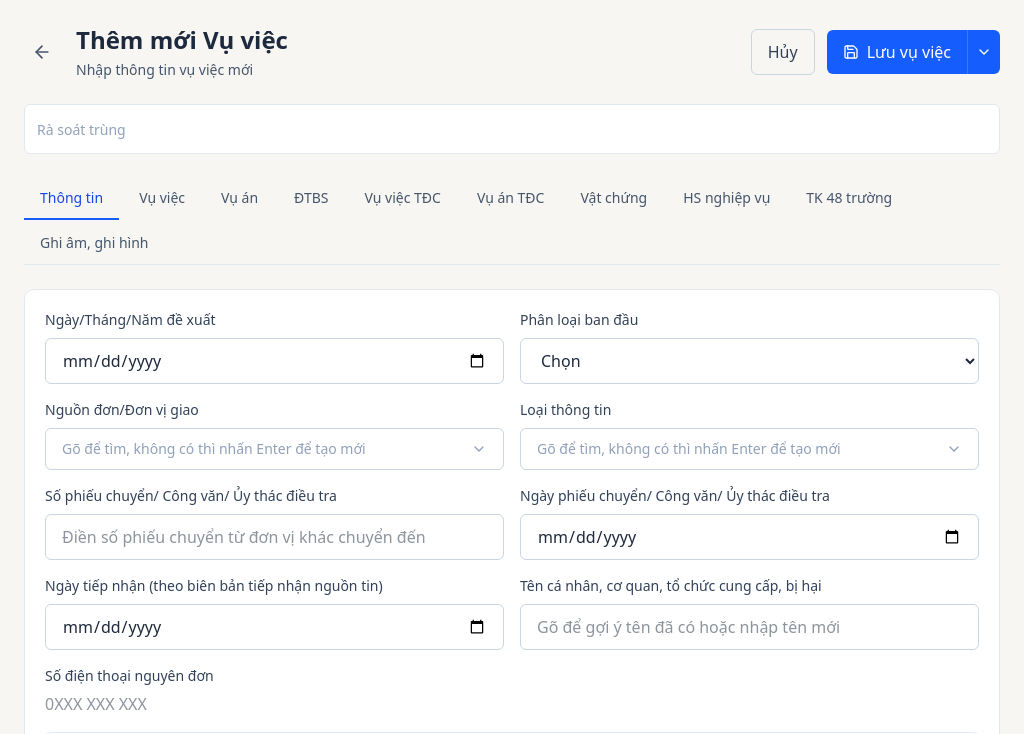
Incident form petition interaction parity › quick-creates the configurable information type and updates the reporter name
The image size is (1024, 734).
Type "Nguyễn Văn Báo Tin" into the dropdown with test id "field-benVu". click: (750, 627)
box: top-left (520, 604), bottom-right (979, 650)
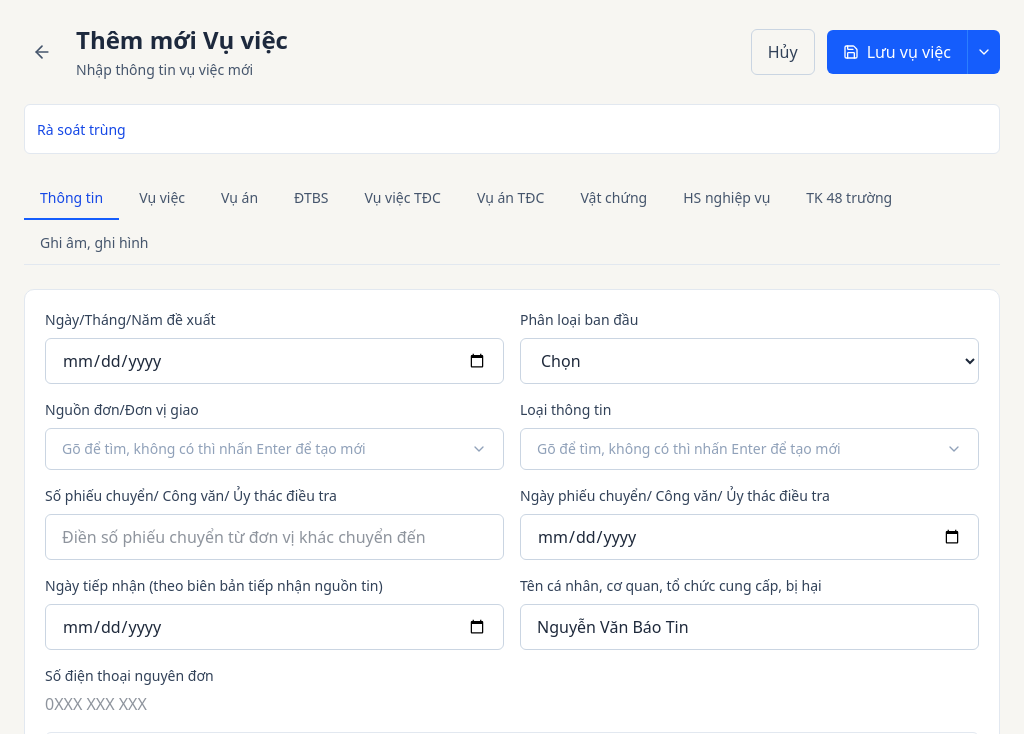
Click the dropdown with test id "field-loaiThongTin-trigger". click: click(750, 449)
box: top-left (520, 428), bottom-right (979, 470)
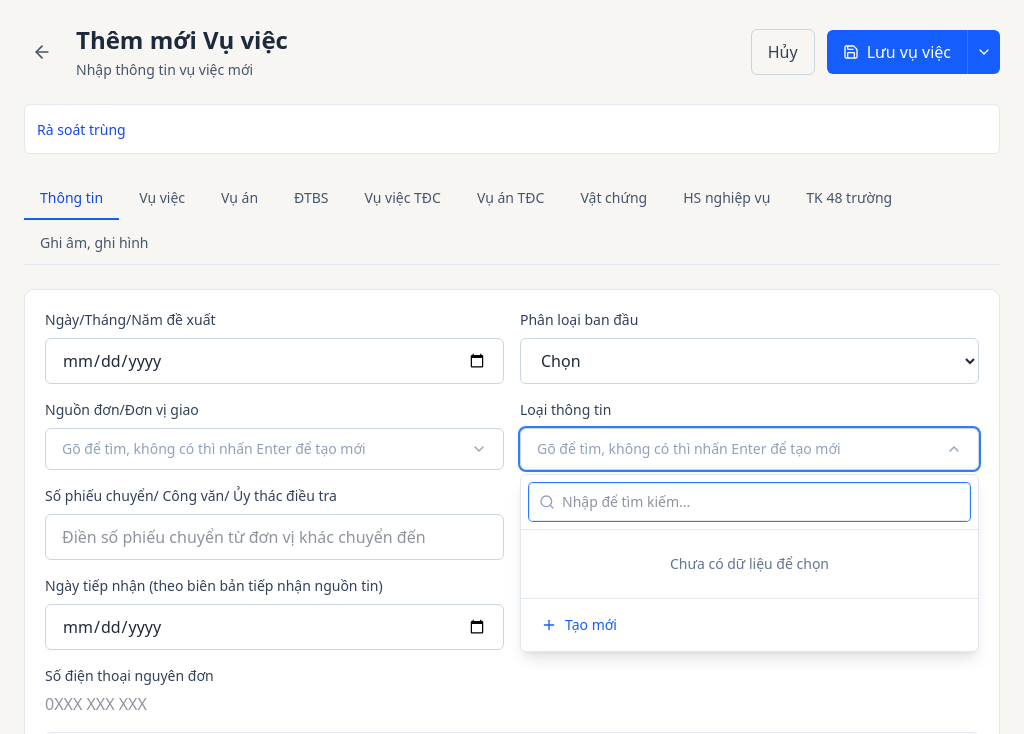
Type "Loại tin mới" into the field with test id "field-loaiThongTin-search". click: (750, 502)
box: top-left (529, 483), bottom-right (970, 521)
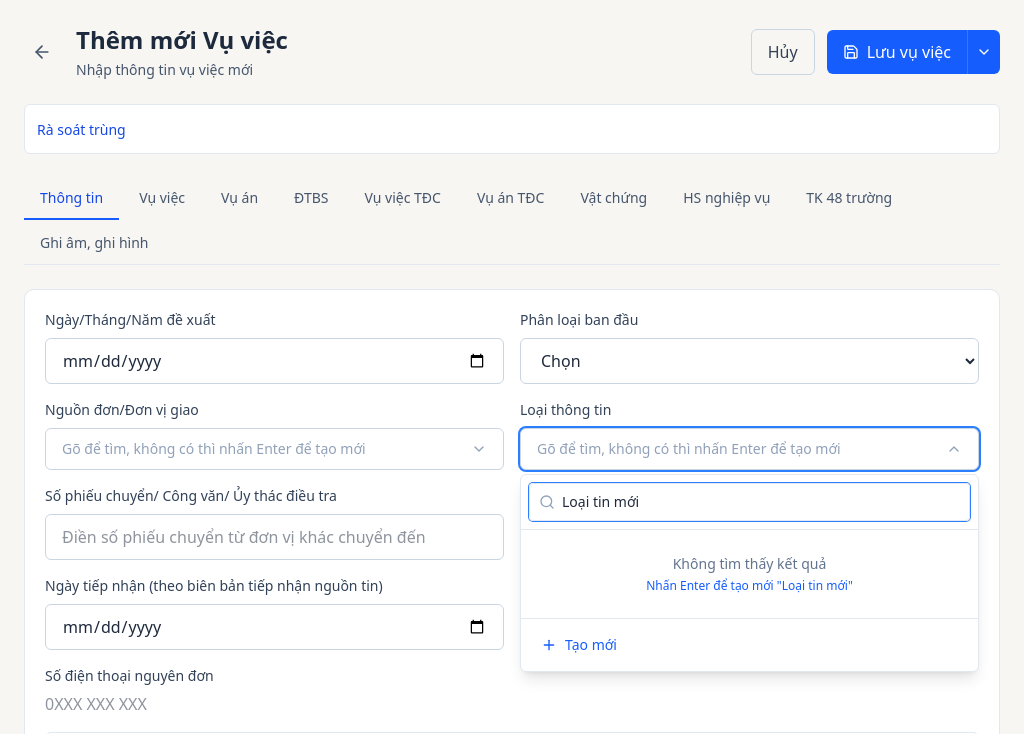
Click the button with test id "field-loaiThongTin-create-new". click: click(591, 644)
box: top-left (529, 627), bottom-right (970, 663)
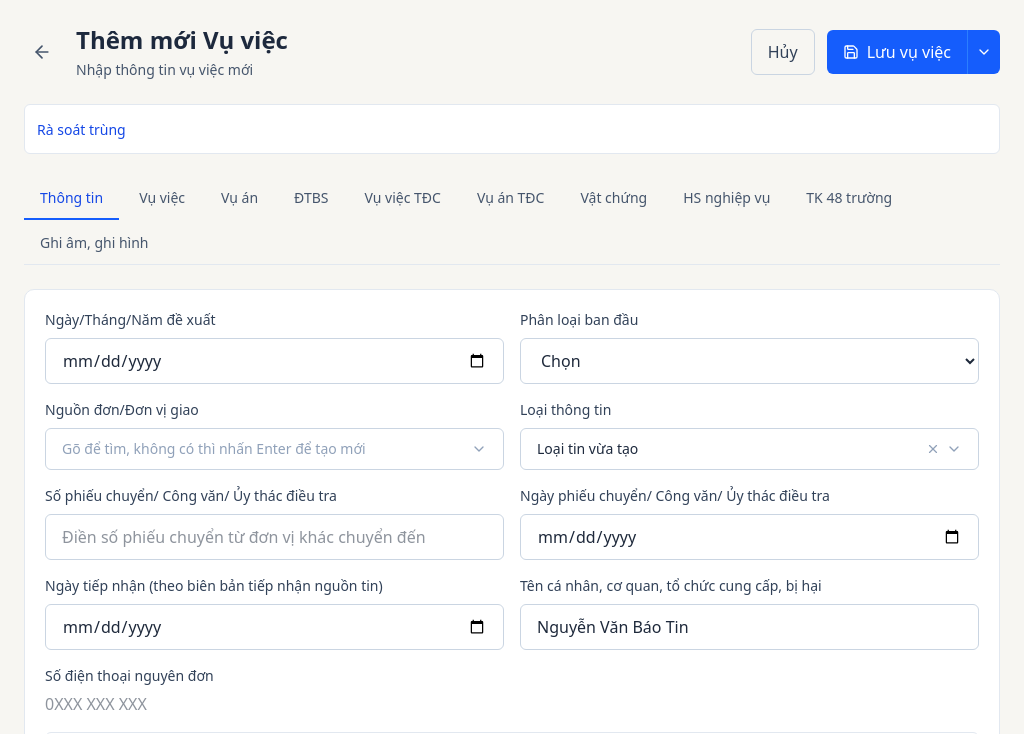
Result: the dropdown with test id "field-loaiThongTin-trigger" reads "Loại tin vừa tạo" at top-left (520, 428), bottom-right (979, 470)
